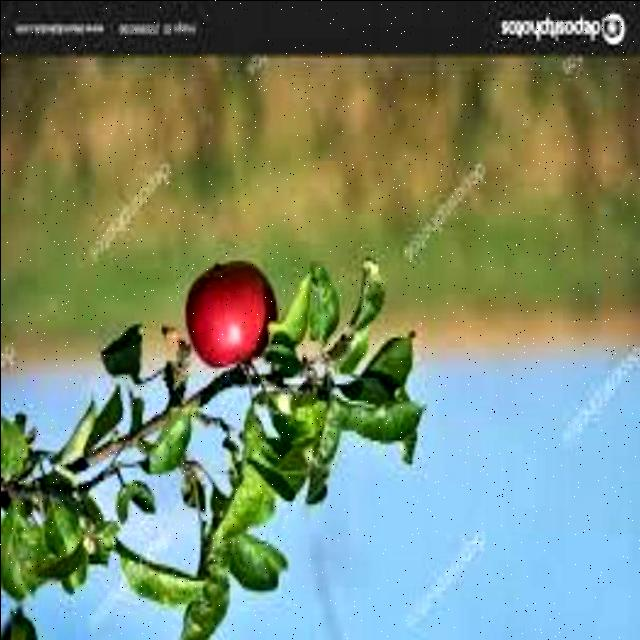HEALTHY: (176, 246, 282, 398)
